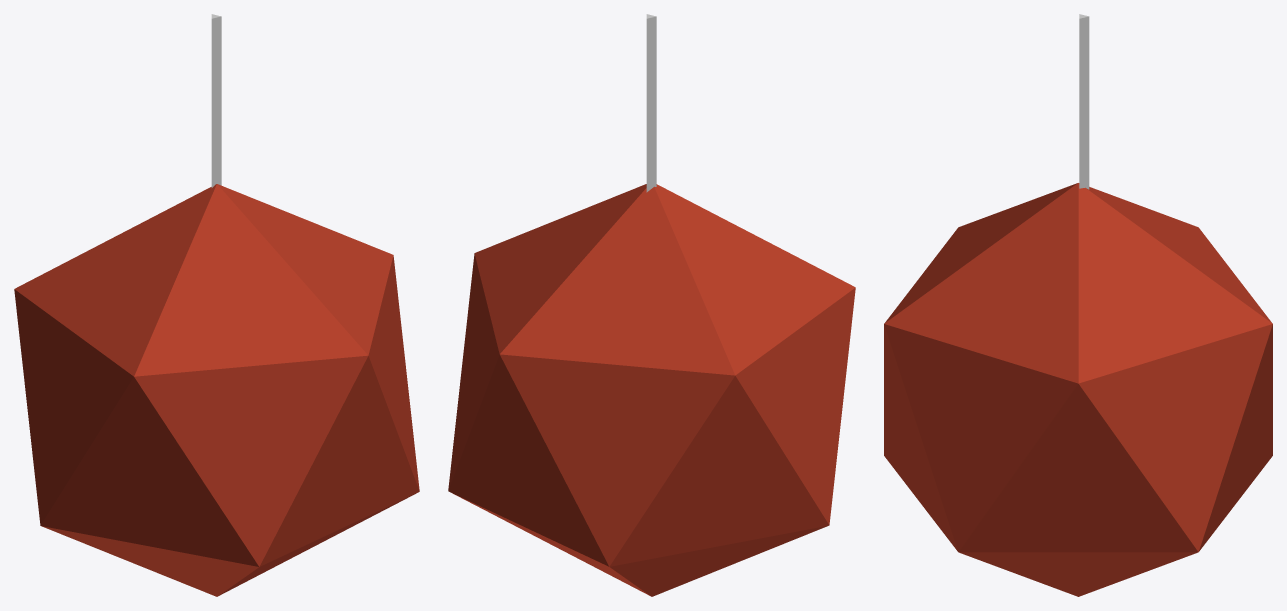
Rendered from Baulble_3.fbx.
3 views of the same model, side by side, from view 1: azimuth 30°, elevation 25°; view 2: azimuth 150°, elevation 25°; view 3: azimuth 270°, elevation 25° (orthographic).
Visible parts, largest first — view 1: Icosphere; view 2: Icosphere; view 3: Icosphere.
Part boxes in pixels (x1=…): Icosphere: x1=14, y1=14, x2=419, y2=596; Icosphere: x1=448, y1=14, x2=855, y2=596; Icosphere: x1=884, y1=14, x2=1272, y2=596.
Size of the model in its own units: 11.54 by 18.08 by 10.97.
